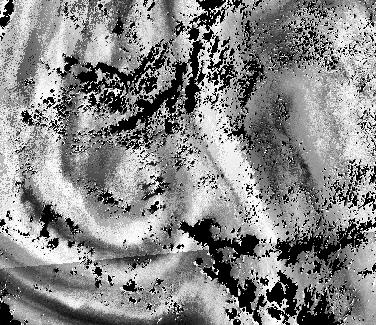CE: (70, 131, 192, 264)
